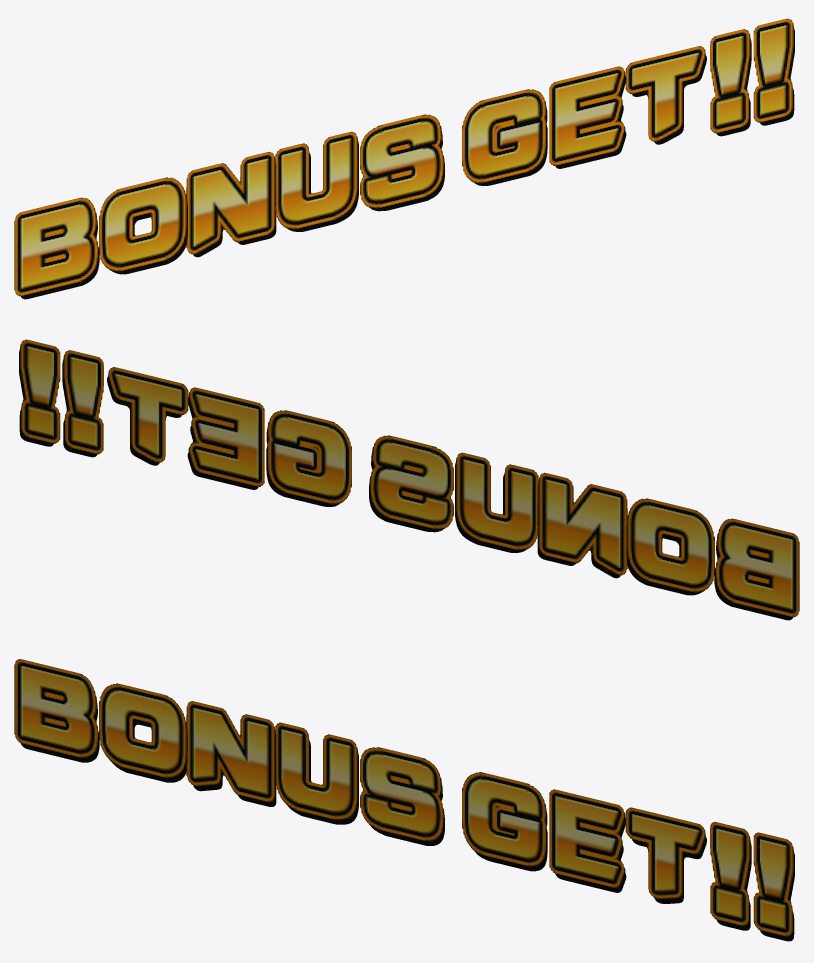
Rendered from GUI_bonusget.FBX.
The picture shows the model from 3 angles, top to bottom: view 1: azimuth 30°, elevation 25°; view 2: azimuth 150°, elevation 25°; view 3: azimuth 330°, elevation 25°; orthographic projection.
Visible parts, largest first — view 1: GUI_bonusget_03, GUI_bonusget_01, GUI_bonusget_06, GUI_bonusget_02, GUI_bonusget_05, GUI_bonusget_07, GUI_bonusget_04, GUI_bonusget_08, GUI_bonusget_10, GUI_bonusget_09; view 2: GUI_bonusget_03, GUI_bonusget_01, GUI_bonusget_06, GUI_bonusget_02, GUI_bonusget_05, GUI_bonusget_07, GUI_bonusget_04, GUI_bonusget_08, GUI_bonusget_10, GUI_bonusget_09; view 3: GUI_bonusget_03, GUI_bonusget_01, GUI_bonusget_06, GUI_bonusget_02, GUI_bonusget_05, GUI_bonusget_07, GUI_bonusget_04, GUI_bonusget_08, GUI_bonusget_10, GUI_bonusget_09.
Boxes of the visible parts, box(x1,y1,x2,y2) form: GUI_bonusget_03: box(186, 151, 276, 257); GUI_bonusget_01: box(14, 197, 99, 299); GUI_bonusget_06: box(462, 89, 547, 185); GUI_bonusget_02: box(99, 177, 187, 274); GUI_bonusget_05: box(360, 114, 444, 211); GUI_bonusget_07: box(549, 66, 626, 168); GUI_bonusget_04: box(275, 131, 358, 231); GUI_bonusget_08: box(625, 46, 711, 144); GUI_bonusget_10: box(753, 18, 794, 125); GUI_bonusget_09: box(710, 29, 751, 136); GUI_bonusget_03: box(537, 472, 627, 578); GUI_bonusget_01: box(714, 518, 799, 620); GUI_bonusget_06: box(266, 410, 351, 506); GUI_bonusget_02: box(626, 498, 714, 595); GUI_bonusget_05: box(369, 435, 453, 532); GUI_bonusget_07: box(187, 387, 264, 489); GUI_bonusget_04: box(455, 452, 538, 552); GUI_bonusget_08: box(102, 367, 188, 465); GUI_bonusget_10: box(19, 339, 60, 446); GUI_bonusget_09: box(62, 350, 103, 457); GUI_bonusget_03: box(186, 701, 276, 806); GUI_bonusget_01: box(14, 659, 99, 762); GUI_bonusget_06: box(462, 772, 547, 871); GUI_bonusget_02: box(99, 683, 187, 782); GUI_bonusget_05: box(360, 747, 444, 845); GUI_bonusget_07: box(549, 789, 626, 892); GUI_bonusget_04: box(275, 722, 358, 824); GUI_bonusget_08: box(625, 807, 711, 903); GUI_bonusget_10: box(753, 832, 794, 941); GUI_bonusget_09: box(710, 821, 751, 930).
Size of the model in its own units: 611 by 80 by 3.5e-06.
9 materials, 9 textured.
